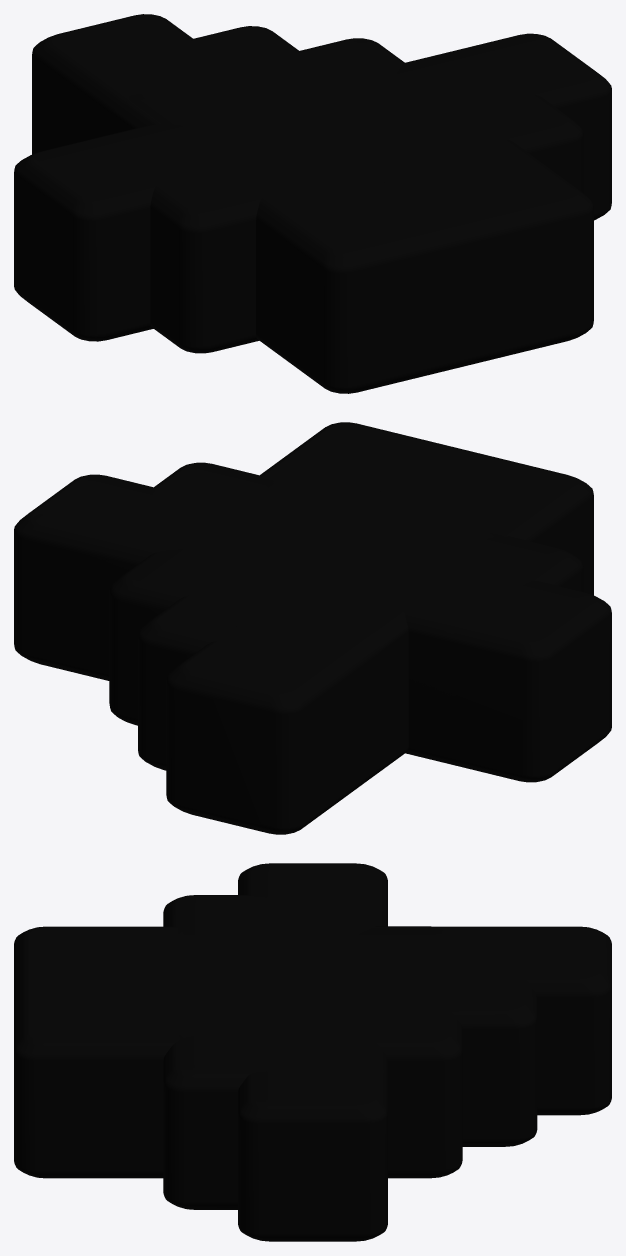
Rendered from Pattern.fbx.
3 views of the same model, one above another, from view 1: azimuth 30°, elevation 25°; view 2: azimuth 150°, elevation 25°; view 3: azimuth 270°, elevation 25° (orthographic). The views are drawn at different scales.
Parts seen in each view (by area): view 1: Pattern; view 2: Pattern; view 3: Pattern.
Boxes of the visible parts, box(x1,y1,x2,y2) form: Pattern: box(14, 14, 611, 393); Pattern: box(14, 422, 611, 834); Pattern: box(14, 863, 611, 1241).
Size of the model in its own units: 4 by 1 by 4.
Materials: 1 (1 with a texture image).
